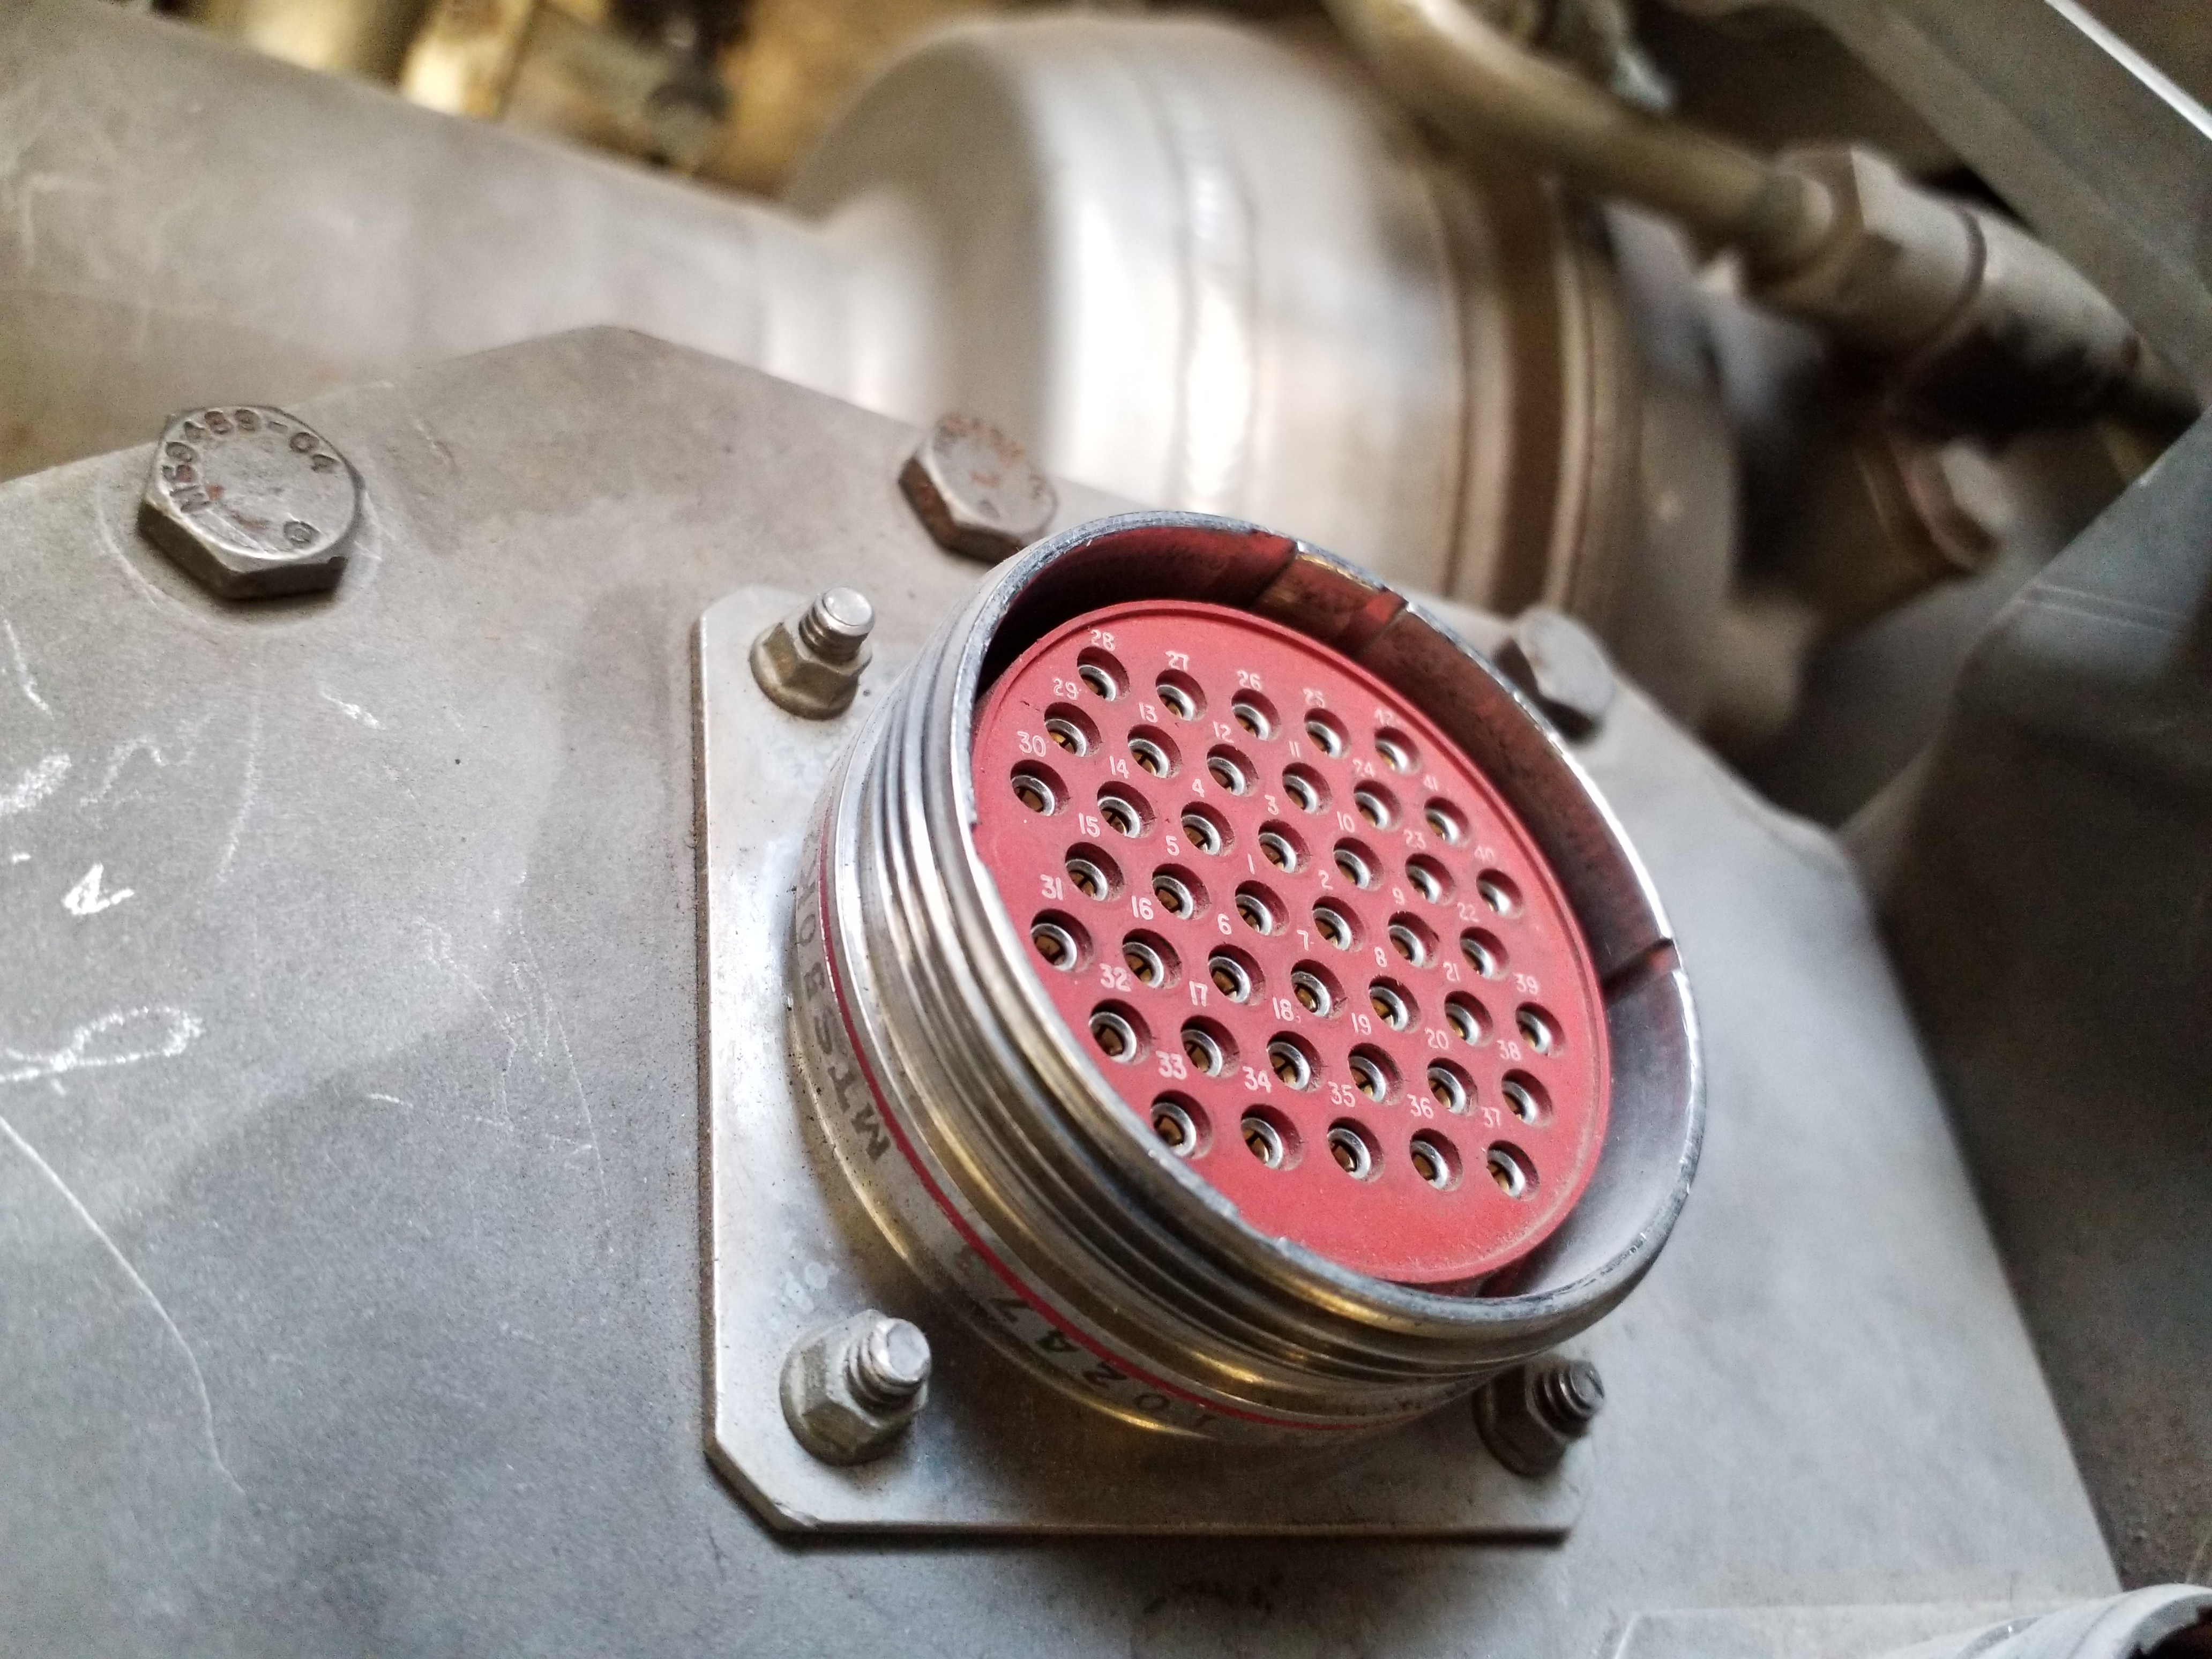inletnumbers: (850, 444, 1747, 1425)
